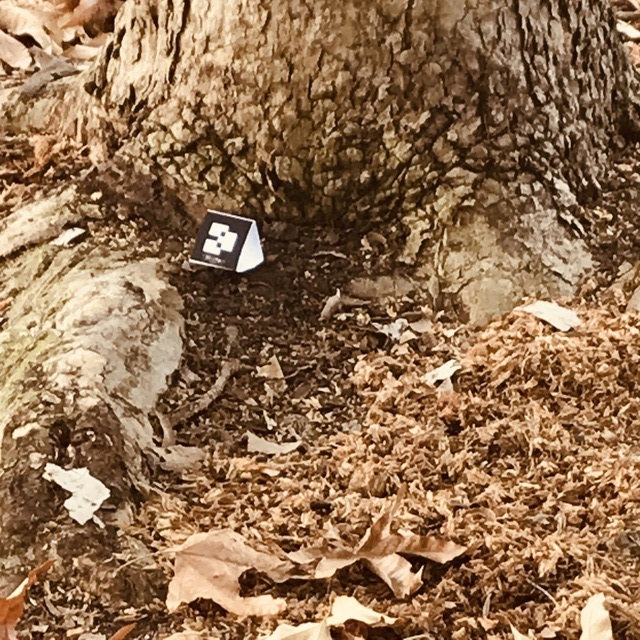ARTag: (190, 208, 264, 274)
